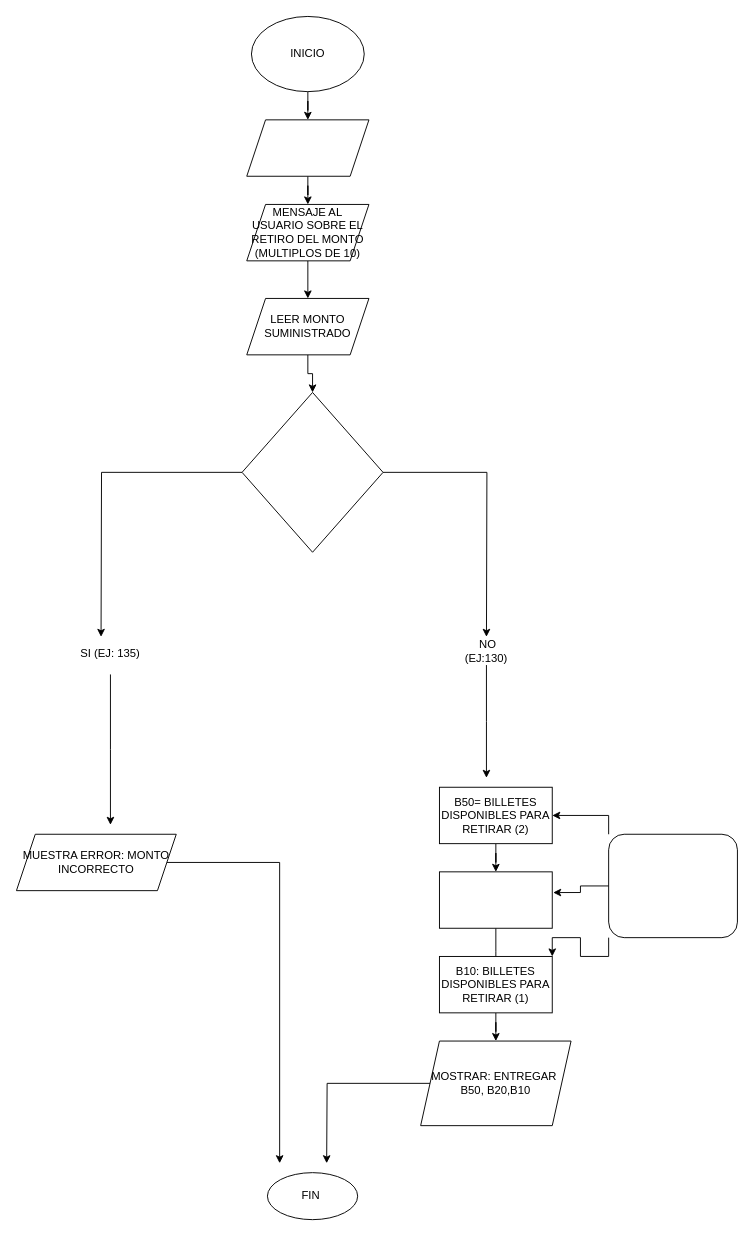
This 754x1236 diagram has some shape labels left out. Each missing label, with the centre of its shape:
B20:BILLETES DISPONIBLES PARA RETIRAR (1): (x=495, y=899)
B50,B20,B10:VERIFICA LA MENOR CANTIDAD DE BILLETES PARA RETIRAR: (x=672, y=885)
RECONOCE TIPO DE TARJETA: (x=307, y=147)
¿MONTO MOD 10!=0?: (x=312, y=472)
